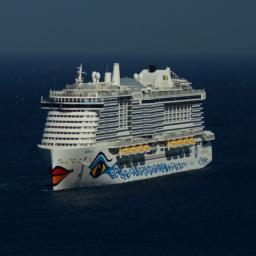cruises: (37, 59, 217, 196)
